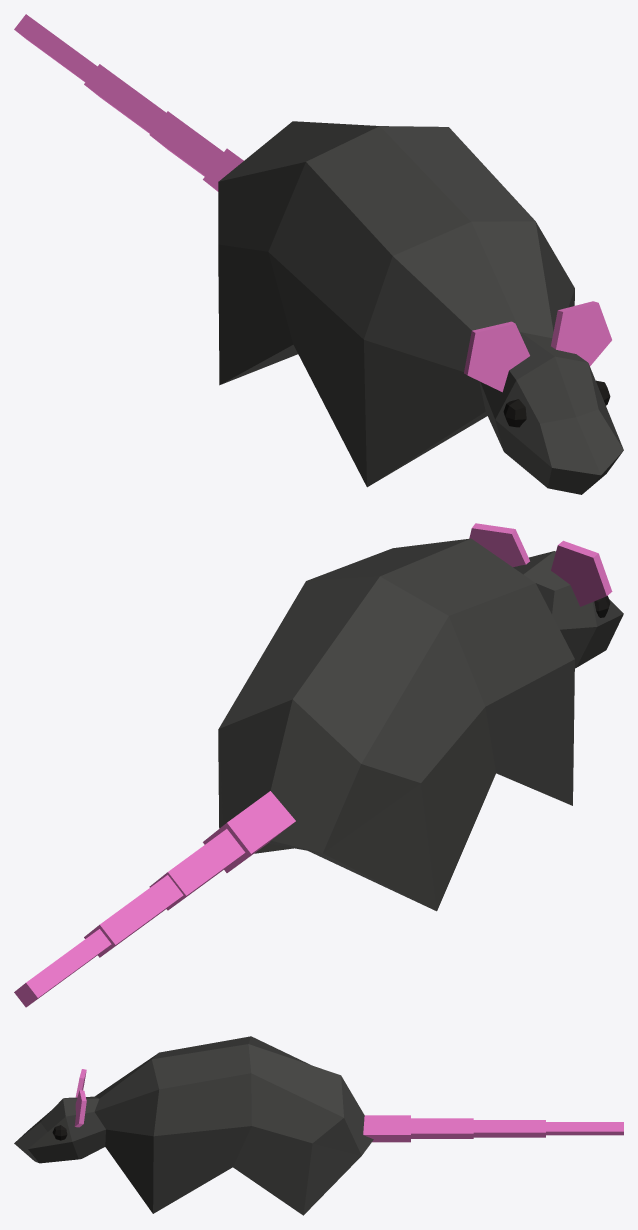
File: ratStationary.fbx
3 views of the same model, one above another, from view 1: azimuth 30°, elevation 25°; view 2: azimuth 150°, elevation 25°; view 3: azimuth 270°, elevation 25° (orthographic). The views are drawn at different scales.
Parts seen in each view (by area): view 1: Cylinder; view 2: Cylinder; view 3: Cylinder.
Part boxes in pixels (x1,y1,x2,y2): Cylinder: [14, 14, 623, 494]; Cylinder: [14, 523, 623, 1007]; Cylinder: [14, 1036, 623, 1215].
Bounding box in the file's own units: 134 × 160 × 616.
